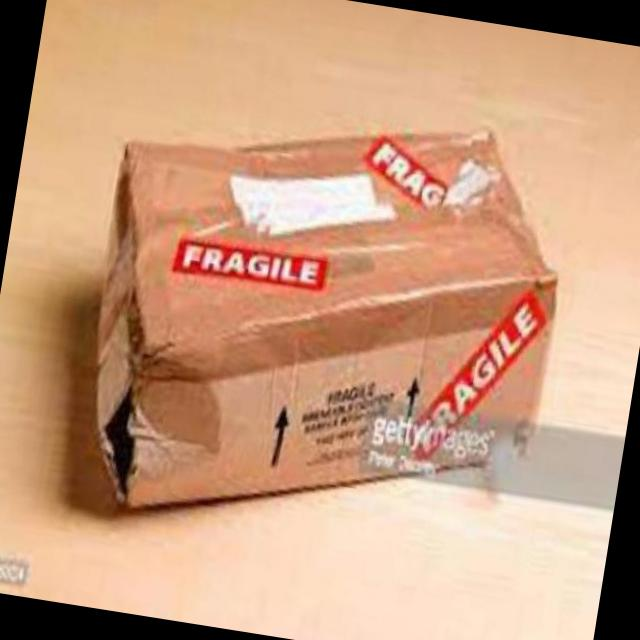box: (59, 70, 586, 577)
